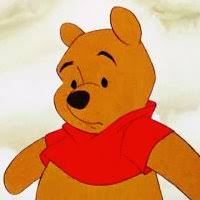Winnie: (45, 4, 155, 167)
